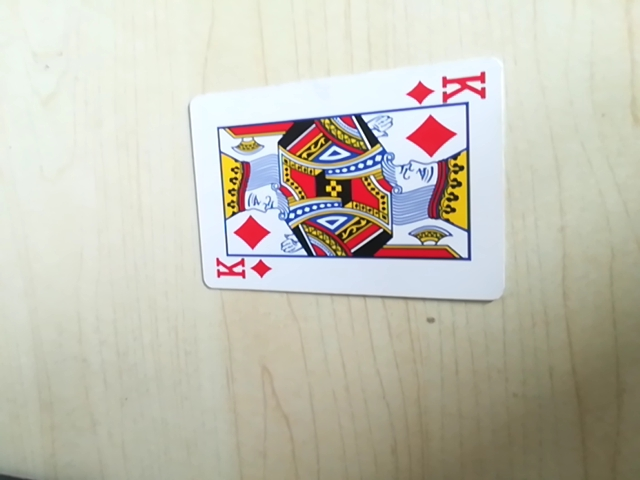fk k: (408, 67, 493, 110), (211, 255, 273, 288)
